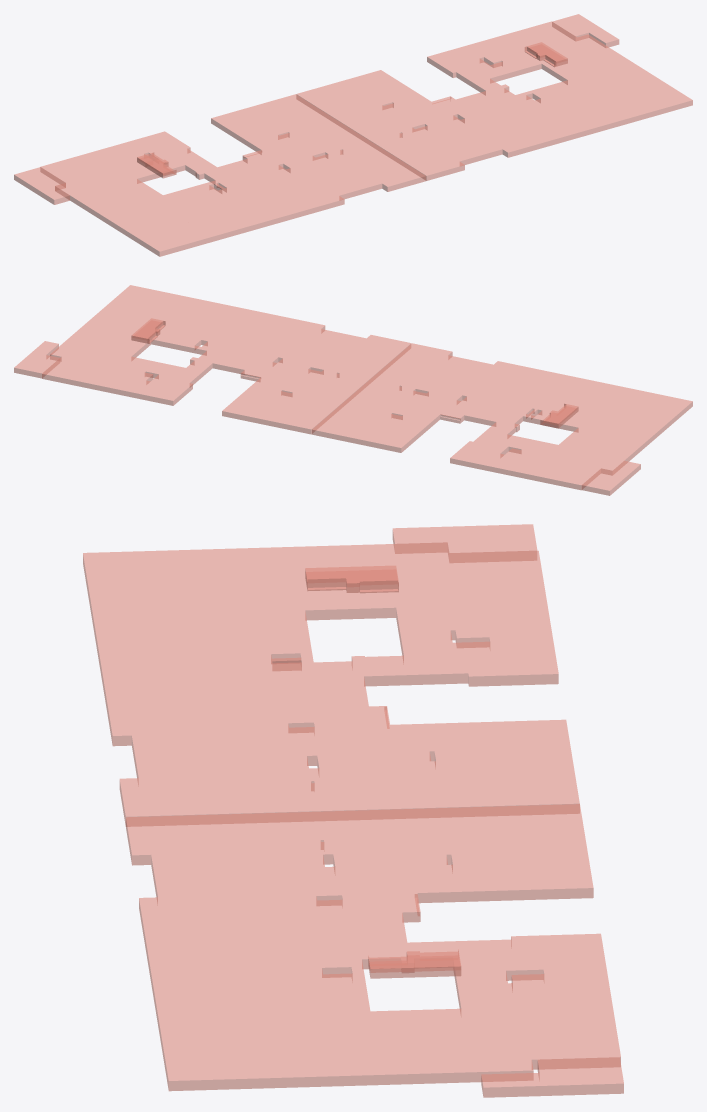
File: GroundFloor_structure.glb
The picture shows the model from 3 angles, top to bottom: view 1: azimuth 30°, elevation 25°; view 2: azimuth 150°, elevation 25°; view 3: azimuth 270°, elevation 25°; orthographic projection. The views are drawn at different scales.
Visible parts, largest first — view 1: world; view 2: world; view 3: world.
Part boxes in pixels (box(x1,y1,x2,y2)): world: box(14, 14, 692, 256); world: box(14, 285, 692, 495); world: box(83, 524, 623, 1097).
Size of the model in its own units: 41.71 by 1.81 by 16.93.
